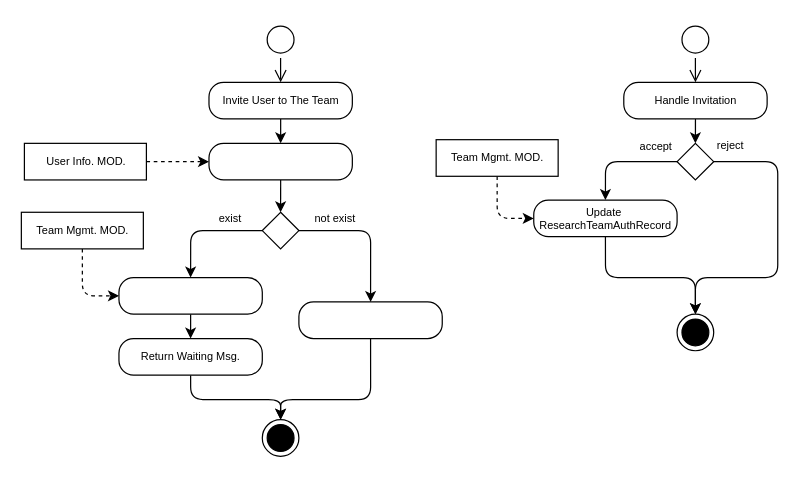
Some shapes in this 809 by 478 pixel diagram are drawn without their labels. The shapes that lost their labels are listed below. From the top down, each one's box as (x1, y1, x2, y2) in pixels, then its label:
(208, 142, 352, 180): Check User Existence
(118, 276, 262, 314): Add ResearchTeamAuthRecord
(298, 301, 442, 339): Return Failed Msg.
